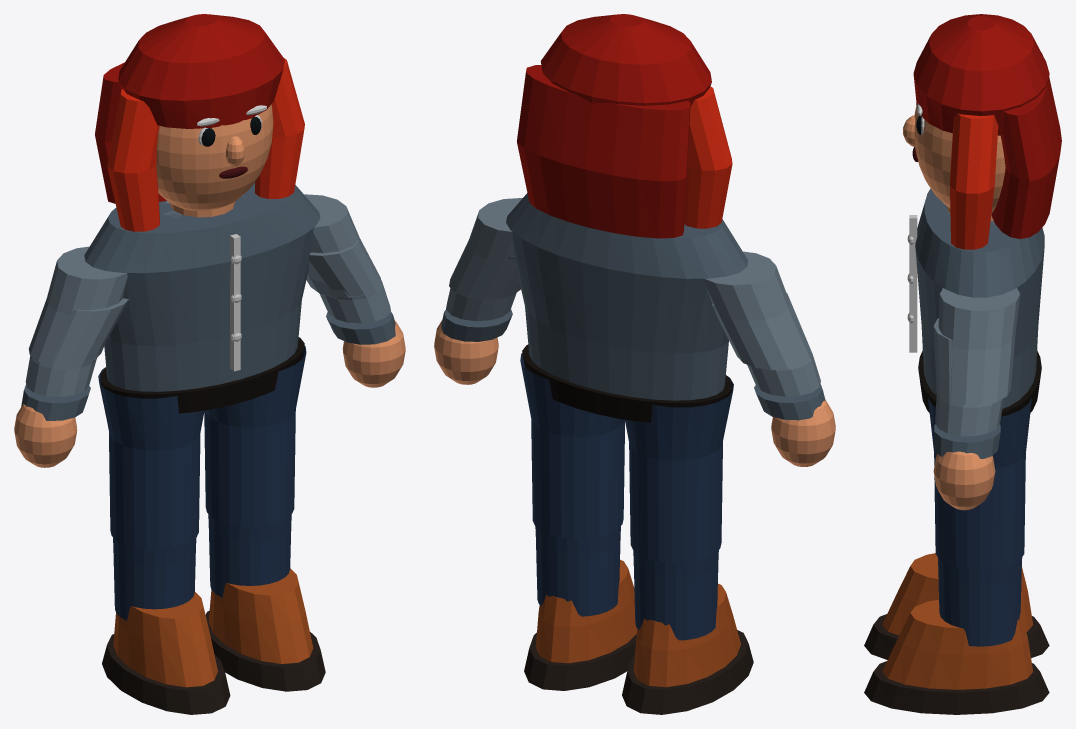
Rendered from LibreViesHeroine.obj.
3 renders of one model, left to right at view 1: azimuth 30°, elevation 25°; view 2: azimuth 150°, elevation 25°; view 3: azimuth 270°, elevation 25°, orthographic. The views are drawn at different scales.
Visible parts, largest first — view 1: Jacket, HairCap, JeansUpper_L, JeansUpper_R, Head, Boot_L, Boot_R, HairLock_L, SleeveUpper_L, JeansLower_R, JeansLower_L, SleeveLower_L (+12 smaller); view 2: Jacket, HairBack, JeansUpper_L, JeansUpper_R, HairCap, SleeveUpper_L, JeansLower_L, JeansLower_R, Boot_L, Boot_R, HairLock_L, SleeveUpper_R (+9 smaller); view 3: Jacket, HairCap, JeansUpper_R, Boot_R, SleeveUpper_R, HairBack, JeansLower_R, HairLock_R, Shoe_R, SleeveLower_R, Hand_R, Head (+5 smaller).
Boxes of the visible parts, box(x1,y1,x2,y2) form: Jacket: box(84, 182, 320, 391); HairCap: box(118, 14, 284, 128); JeansUpper_L: box(98, 367, 204, 549); JeansUpper_R: box(204, 345, 306, 526); Head: box(156, 104, 273, 210); Boot_L: box(113, 592, 217, 687); Boot_R: box(208, 568, 313, 663); HairLock_L: box(107, 89, 159, 231); SleeveUpper_L: box(28, 246, 127, 365); JeansLower_R: box(208, 514, 291, 597); JeansLower_L: box(113, 537, 196, 620); SleeveLower_L: box(25, 298, 128, 396); Jacket: box(506, 193, 748, 400); HairBack: box(517, 65, 690, 238); JeansUpper_L: box(625, 375, 733, 562); JeansUpper_R: box(520, 353, 624, 538); HairCap: box(540, 14, 711, 106); SleeveUpper_L: box(704, 251, 811, 369); JeansLower_L: box(633, 550, 718, 640); JeansLower_R: box(535, 526, 620, 616); Boot_L: box(633, 583, 740, 687); Boot_R: box(536, 559, 637, 663); HairLock_L: box(684, 86, 732, 228); SleeveUpper_R: box(449, 198, 522, 299); Jacket: box(915, 188, 1044, 408); HairCap: box(913, 14, 1049, 135); JeansUpper_R: box(928, 397, 1031, 569); Boot_R: box(882, 599, 1033, 689); SleeveUpper_R: box(938, 288, 1020, 404); HairBack: box(991, 53, 1061, 238); JeansLower_R: box(937, 557, 1022, 646); HairLock_R: box(950, 113, 998, 249); Shoe_R: box(864, 661, 1049, 714); SleeveLower_R: box(933, 318, 1003, 436); Hand_R: box(933, 451, 995, 510); Head: box(914, 105, 1005, 212).
Size of the model in its own units: 1.45 by 2.3 by 0.64.
